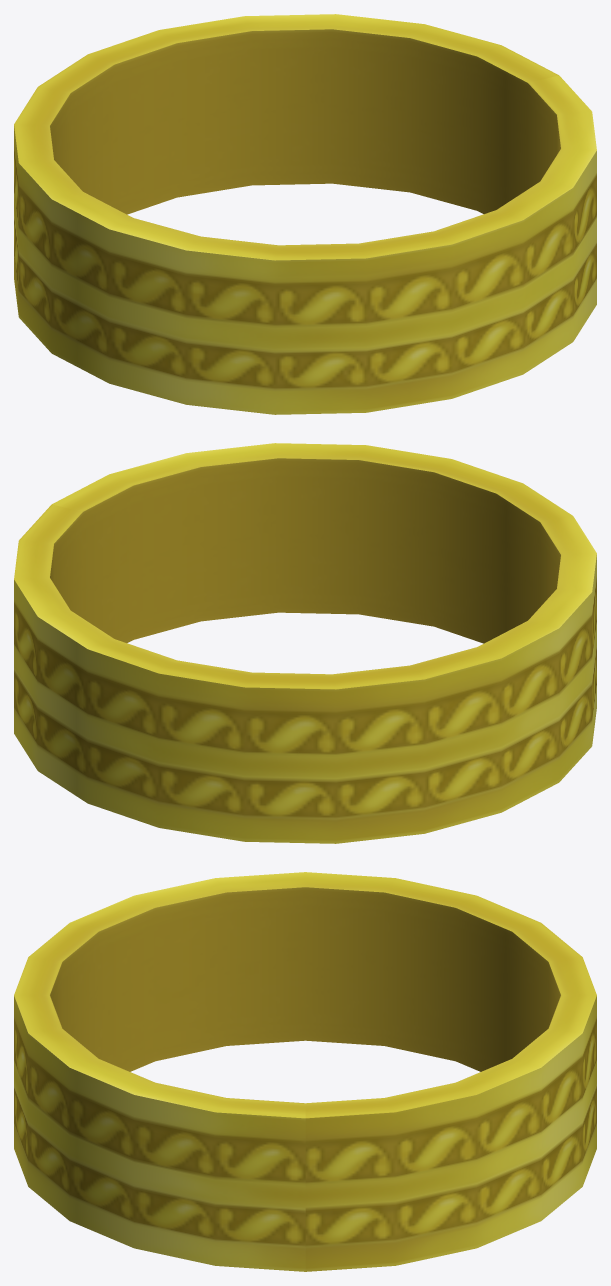
File: ring_gold_14.fbx
3 renders of one model, top to bottom at view 1: azimuth 30°, elevation 25°; view 2: azimuth 150°, elevation 25°; view 3: azimuth 270°, elevation 25°, orthographic.
Visible parts, largest first — view 1: ring_glod_14; view 2: ring_glod_14; view 3: ring_glod_14.
Boxes of the visible parts, <box> form: ring_glod_14: <box>14,14,596,414</box>; ring_glod_14: <box>14,443,596,843</box>; ring_glod_14: <box>14,872,596,1271</box>.
Bounding box in the file's own units: 2.04 × 0.594 × 2.04.
